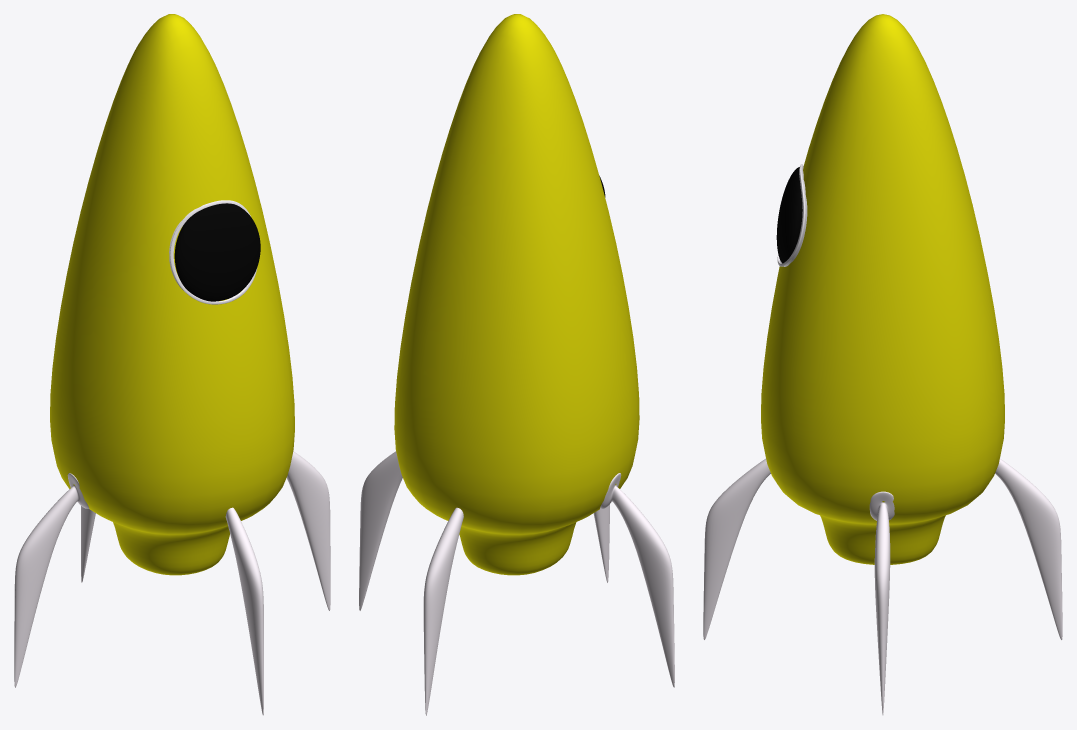
The model's file is rocketModel.fbx.
3 views of the same model, side by side, from view 1: azimuth 30°, elevation 25°; view 2: azimuth 150°, elevation 25°; view 3: azimuth 270°, elevation 25° (orthographic).
Parts seen in each view (by area): view 1: RocketBody, Sphere, Fin.002, Fin, Fin.001, Circle, Fin.003; view 2: RocketBody, Fin.002, Fin, Fin.003, Fin.001; view 3: RocketBody, Fin.001, Fin.003, Fin, Sphere, Circle.
Part boxes in pixels (left/top/right/bottom): RocketBody: left=50, top=14, right=294, bottom=575; Sphere: left=174, top=203, right=260, bottom=301; Fin.002: left=14, top=473, right=89, bottom=687; Fin: left=286, top=451, right=330, bottom=610; Fin.001: left=225, top=507, right=263, bottom=715; Circle: left=169, top=200, right=257, bottom=304; Fin.003: left=81, top=506, right=95, bottom=582; RocketBody: left=394, top=14, right=639, bottom=575; Fin.002: left=600, top=473, right=674, bottom=687; Fin: left=359, top=451, right=402, bottom=610; Fin.003: left=423, top=507, right=463, bottom=715; Fin.001: left=593, top=504, right=609, bottom=582; RocketBody: left=761, top=14, right=1004, bottom=564; Fin.001: left=703, top=458, right=770, bottom=640; Fin.003: left=995, top=458, right=1062, bottom=640; Fin: left=869, top=491, right=894, bottom=715; Sphere: left=776, top=167, right=802, bottom=263; Circle: left=777, top=164, right=807, bottom=266.
Bounding box in the file's own units: 648 × 1244 × 648.
